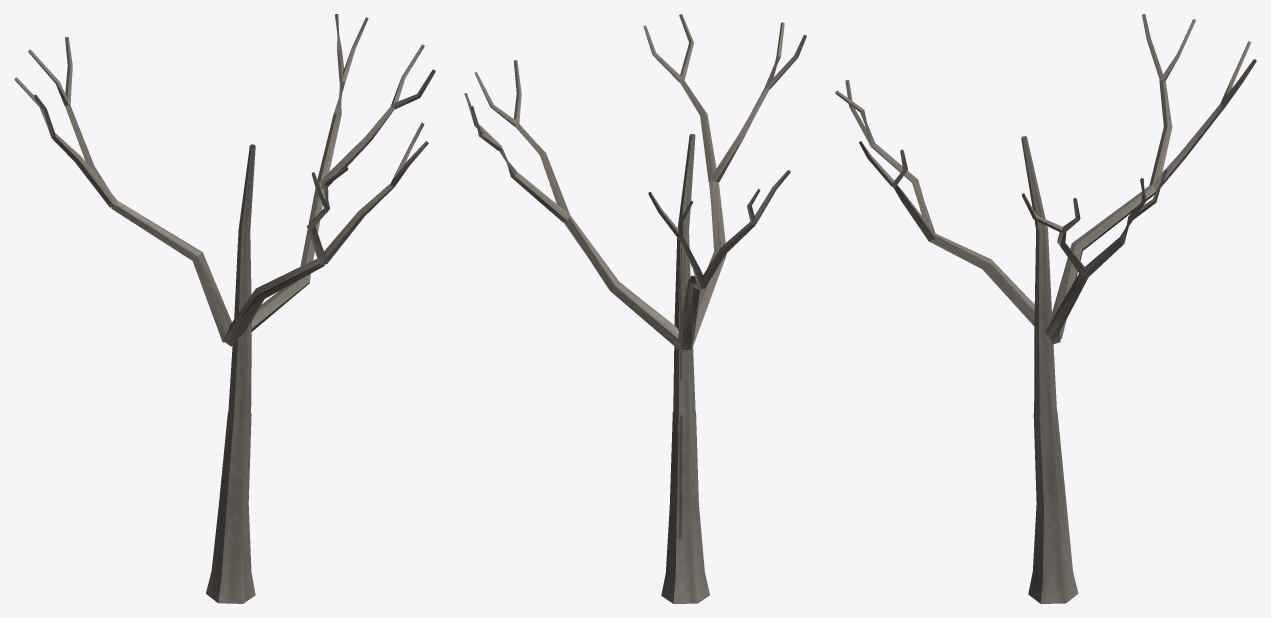
File: tree_dead.fbx
The picture shows the model from 3 angles, left to right: view 1: azimuth 30°, elevation 25°; view 2: azimuth 150°, elevation 25°; view 3: azimuth 270°, elevation 25°; orthographic projection. The views are drawn at different scales.
Parts seen in each view (by area): view 1: tree_dead_crown, tree_dead; view 2: tree_dead_crown, tree_dead; view 3: tree_dead_crown, tree_dead.
Boxes of the visible parts, x1=… form: tree_dead_crown: x1=14, y1=14, x2=435, y2=417; tree_dead: x1=206, y1=412, x2=255, y2=603; tree_dead_crown: x1=464, y1=14, x2=806, y2=415; tree_dead: x1=661, y1=412, x2=709, y2=603; tree_dead_crown: x1=835, y1=14, x2=1256, y2=417; tree_dead: x1=1028, y1=411, x2=1078, y2=603.
Size of the model in its own units: 4.16 by 5.63 by 4.23.
1 material, 1 textured.
